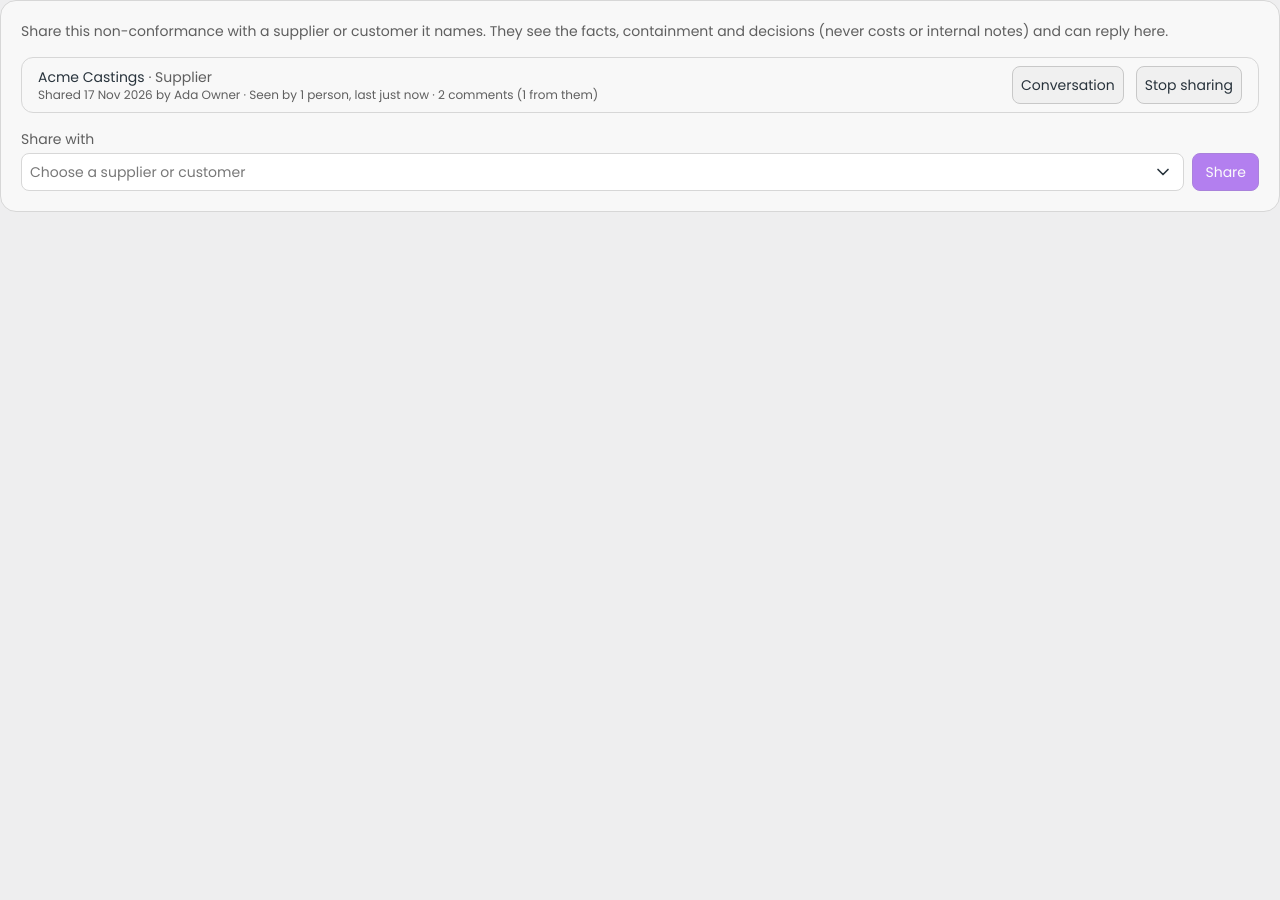
Test: the share card on a record › opens the conversation and writes to them
Later steps or results of the test are not shown.
Click the button with aria-label "Conversation with Acme Castings" at (1068, 85), box x1=1012 y1=66 x2=1124 y2=104
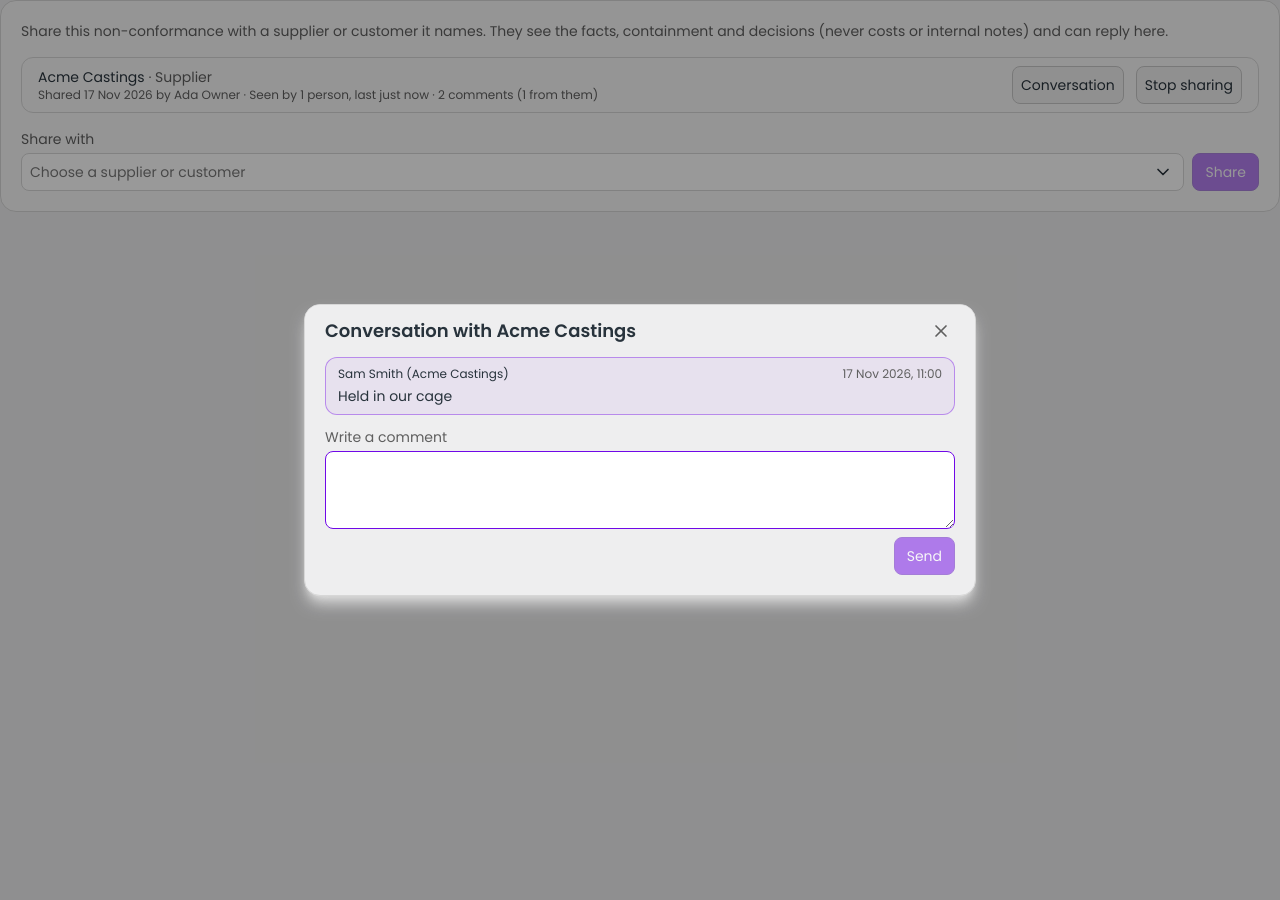
Expected: the text "Held in our cage" is shown, x1=338 y1=386 x2=452 y2=406
